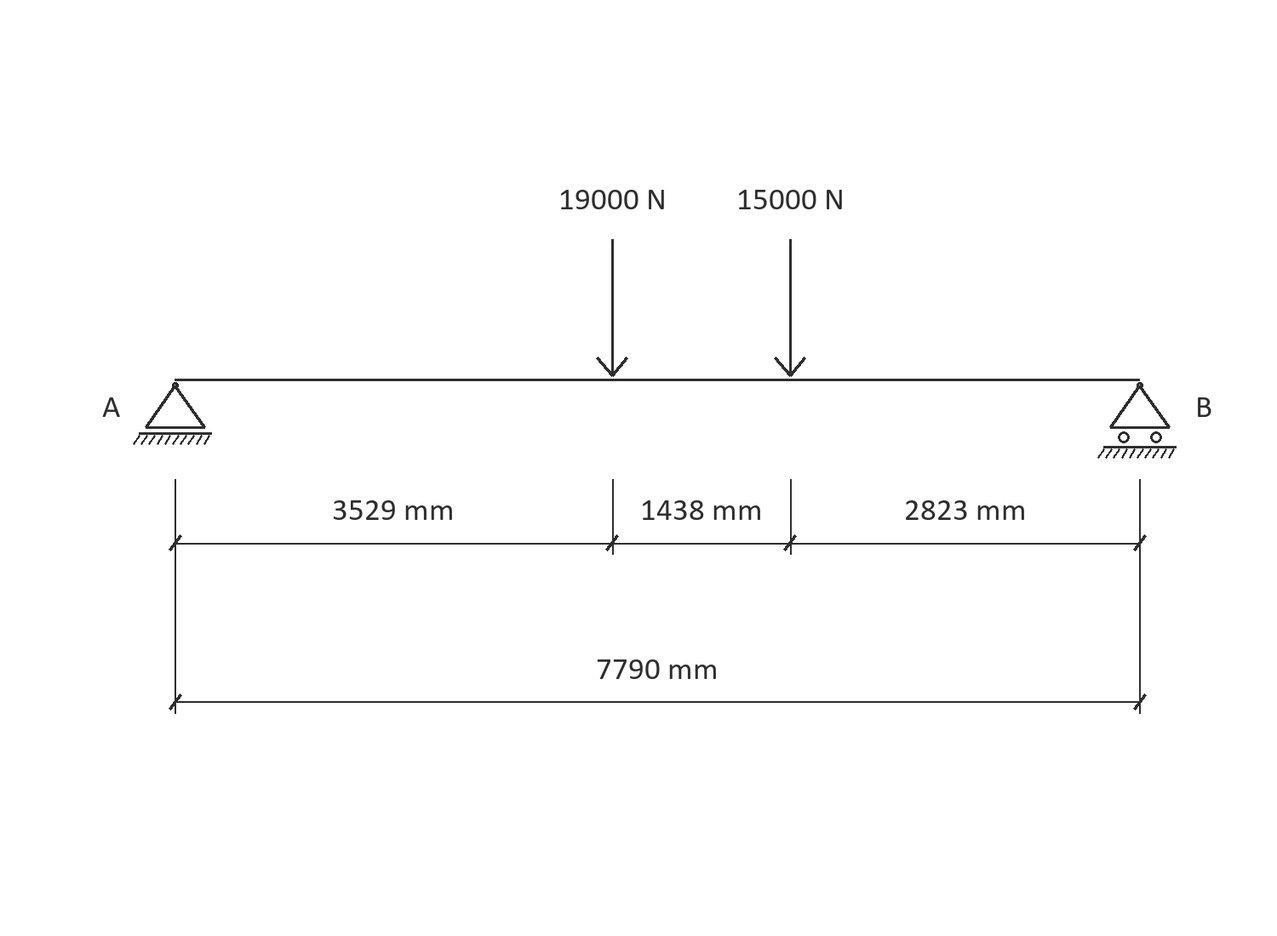pin_support: (133, 382, 212, 445)
point_load: (596, 239, 628, 377), (774, 239, 806, 377)
roller_support: (1097, 382, 1177, 459)
